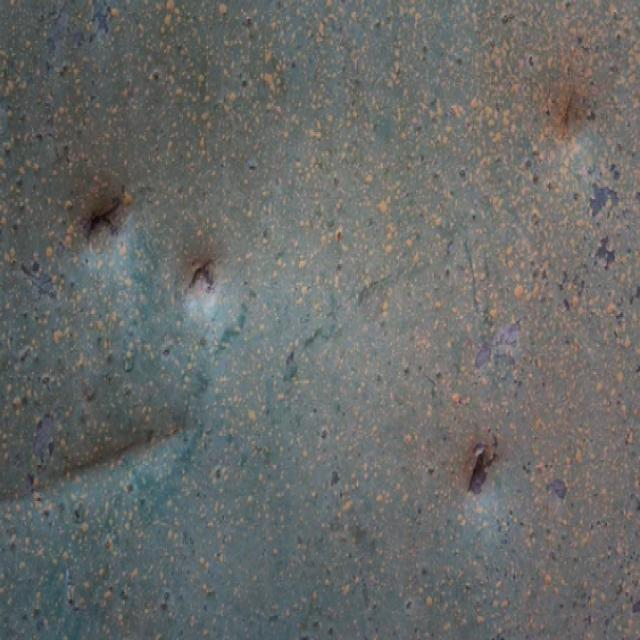dents: (74, 170, 160, 283), (446, 434, 528, 511), (545, 88, 607, 175), (182, 252, 227, 336)
